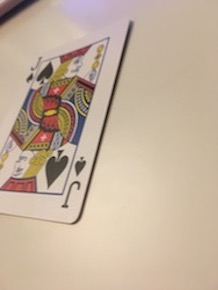JackOfSpades: (1, 13, 135, 228)
